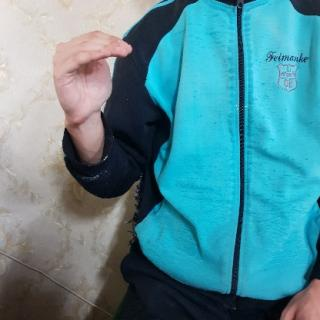HAA: (47, 29, 139, 134)
